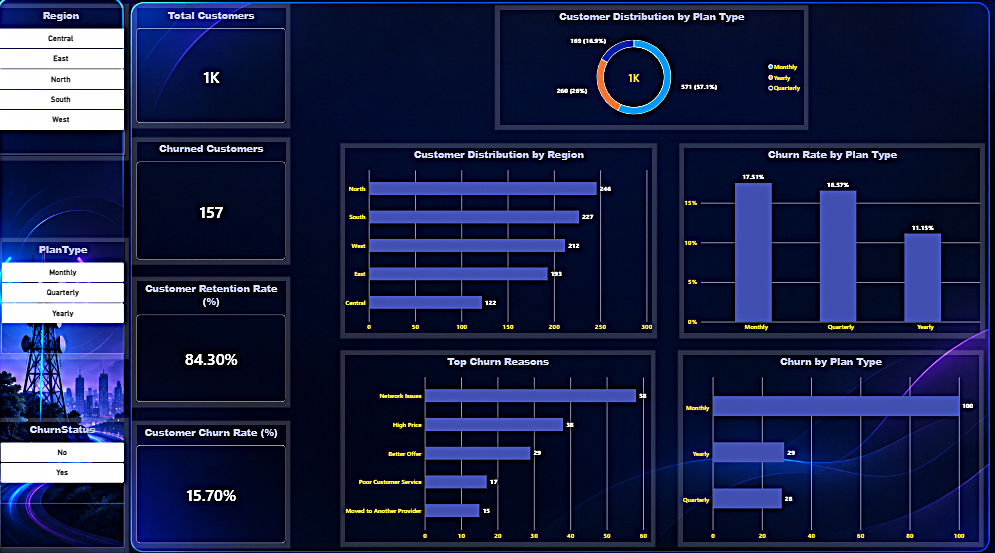

Layout of this report page (visuals, bound fields, positions):
{"tool":"powerbi","page":{"name":"Page 1","canvas":[2500,2000],"ordinal":0},"visuals":[{"type":"cardVisual","title":"Total Customers","fields":{"Data":["Count(teleconnect_customer_churn.CustomerID)"]},"box":[350,315.4,373.1,288.5],"z":0},{"type":"cardVisual","title":"Churned Customers","fields":{"Data":["Count(teleconnect_customer_churn.CustomerID)"]},"box":[350,650,373.1,296.2],"z":1000},{"type":"cardVisual","title":"Customer Churn Rate (%)","fields":{"Data":["teleconnect_customer_churn.Churn Rate"]},"box":[350,1357.7,373.1,296.2],"z":2000},{"type":"cardVisual","title":"Customer Retention Rate (%)","fields":{"Data":["teleconnect_customer_churn.Retention Rate"]},"box":[350,1000,373.1,303.8],"z":3000},{"type":"clusteredBarChart","title":"Churn by Plan Type","fields":{"Category":["teleconnect_customer_churn.PlanType"],"Y":["Count(teleconnect_customer_churn.CustomerID)"]},"box":[1715.4,1184.6,742.3,469.2],"z":4000},{"type":"donutChart","title":"Customer Distribution by Plan Type","fields":{"Category":["teleconnect_customer_churn.PlanType"],"Y":["Count(teleconnect_customer_churn.CustomerID)"]},"box":[1257.7,319.2,761.5,288.5],"z":4001},{"type":"clusteredBarChart","title":"Customer Distribution by Region","fields":{"Category":["teleconnect_customer_churn.Region"],"Y":["Count(teleconnect_customer_churn.CustomerID)"]},"box":[869.2,665.4,769.2,465.4],"z":4002},{"type":"clusteredColumnChart","title":"Churn Rate by Plan Type","fields":{"Category":["teleconnect_customer_churn.PlanType"],"Y":["teleconnect_customer_churn.Plan Churn Rate"]},"box":[1719.2,665.4,742.3,465.4],"z":4003},{"type":"clusteredBarChart","title":"Top Churn Reasons","fields":{"Category":["teleconnect_customer_churn.ChurnReason"],"Y":["Count(teleconnect_customer_churn.CustomerID)"]},"box":[869.2,1184.6,765.4,469.2],"z":4004},{"type":"advancedSlicerVisual","fields":{"Values":["teleconnect_customer_churn.Region"]},"box":[0,315.4,319.2,369.2],"z":4005},{"type":"advancedSlicerVisual","fields":{"Values":["teleconnect_customer_churn.PlanType"]},"box":[11.5,900,307.7,280.8],"z":4006},{"type":"advancedSlicerVisual","fields":{"Values":["teleconnect_customer_churn.ChurnStatus"]},"box":[7.7,1350,311.5,315.4],"z":4007}]}

Visuals, with their boxes on the page's 2500x2000 design canvas (x1, y1, x2, y2). These are canvas units, not pixel positions in the 995x553 screenshot, which may show the page scaled, cropped or inside an application window:
"Total Customers" cardVisual: 350 315 723 604
"Churned Customers" cardVisual: 350 650 723 946
"Customer Churn Rate (%)" cardVisual: 350 1358 723 1654
"Customer Retention Rate (%)" cardVisual: 350 1000 723 1304
"Churn by Plan Type" clusteredBarChart: 1715 1185 2458 1654
"Customer Distribution by Plan Type" donutChart: 1258 319 2019 608
"Customer Distribution by Region" clusteredBarChart: 869 665 1638 1131
"Churn Rate by Plan Type" clusteredColumnChart: 1719 665 2462 1131
"Top Churn Reasons" clusteredBarChart: 869 1185 1635 1654
advancedSlicerVisual - teleconnect_customer_churn.Region: 0 315 319 685
advancedSlicerVisual - teleconnect_customer_churn.PlanType: 12 900 319 1181
advancedSlicerVisual - teleconnect_customer_churn.ChurnStatus: 8 1350 319 1665
